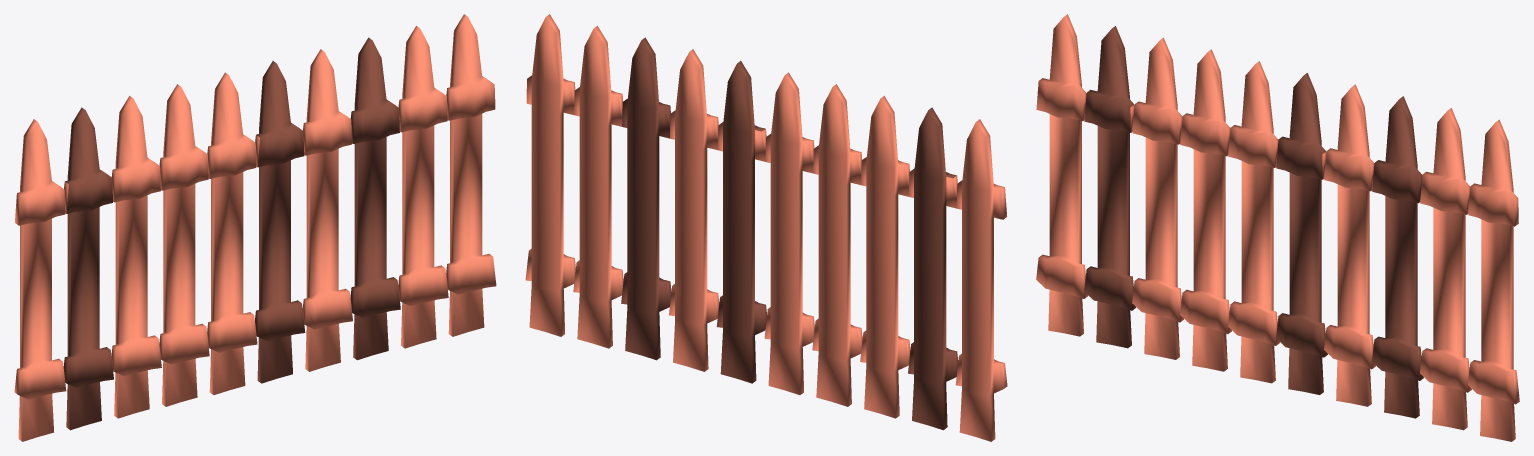
File: Fence.fbx
3 renders of one model, left to right at view 1: azimuth 30°, elevation 25°; view 2: azimuth 150°, elevation 25°; view 3: azimuth 330°, elevation 25°, orthographic.
Parts seen in each view (by area): view 1: Fence; view 2: Fence; view 3: Fence.
Boxes of the visible parts, x1,y1,x2,y2 form: Fence: (14,14,496,441); Fence: (525,14,1007,441); Fence: (1036,14,1519,441).
Size of the model in its own units: 341 by 216 by 14.72.
